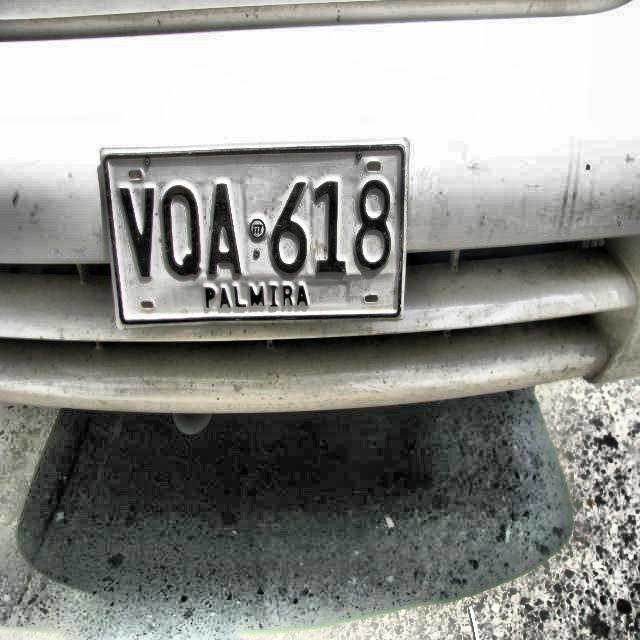plate: (105, 148, 402, 321)
